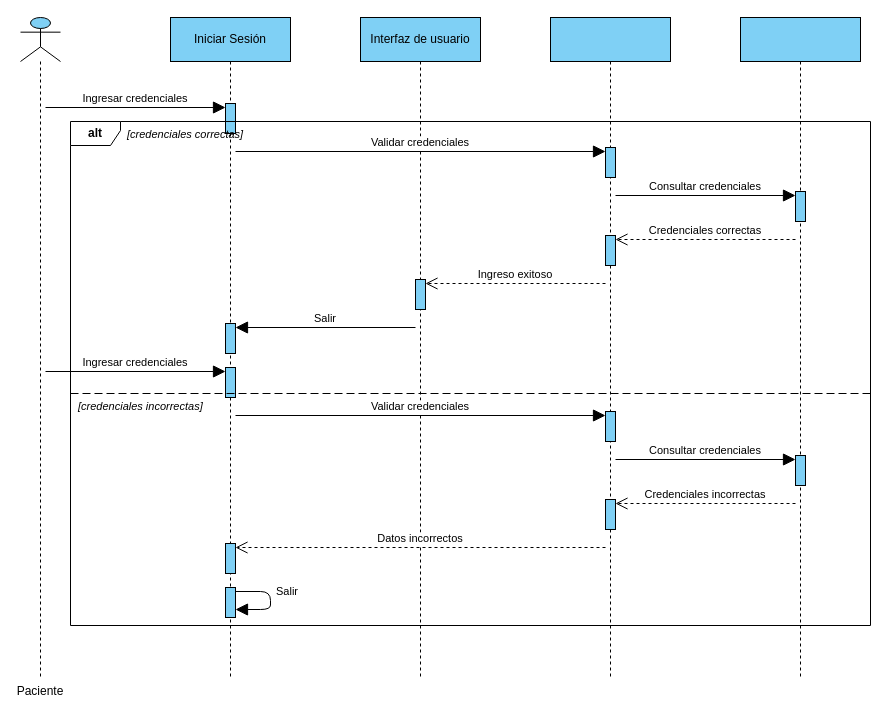
This 889x716 diagram has some shape labels left out. The box of each missing label's shape, as (x1, y1, x2, y2) in pixels:
Controlador: (550, 16, 670, 678)
Database: (740, 16, 860, 678)
